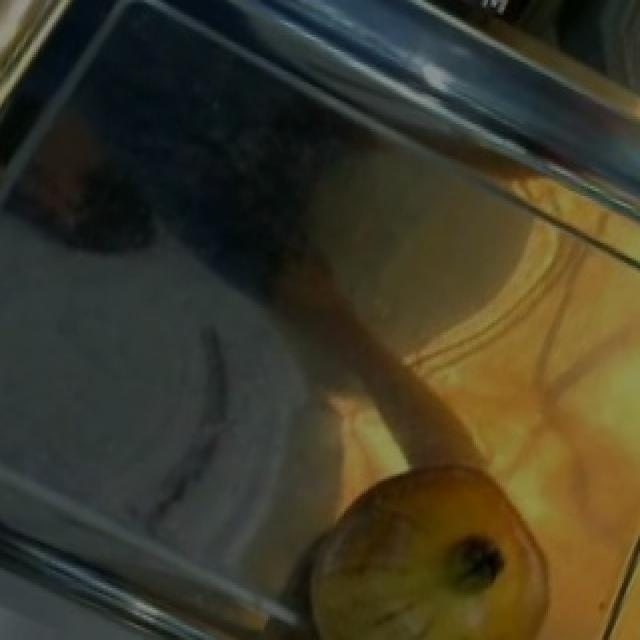fruit: (276, 432, 576, 638)
